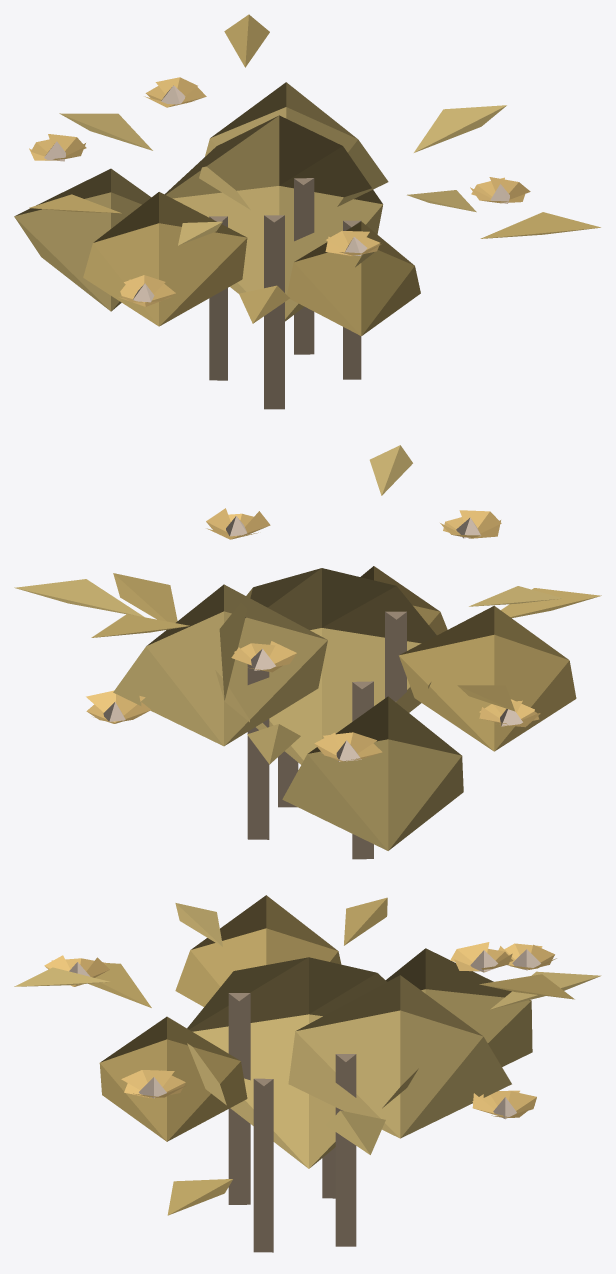
File: guan.lianqiao__autumn.glb
3 views of the same model, one above another, from view 1: azimuth 30°, elevation 25°; view 2: azimuth 150°, elevation 25°; view 3: azimuth 270°, elevation 25° (orthographic). The views are drawn at different scales.
Parts seen in each view (by area): view 1: guan.lianqiao__autumn; view 2: guan.lianqiao__autumn; view 3: guan.lianqiao__autumn.
Boxes of the visible parts, left/top/right/bottom form: guan.lianqiao__autumn: left=14, top=14, right=600, bottom=409; guan.lianqiao__autumn: left=14, top=445, right=601, bottom=859; guan.lianqiao__autumn: left=14, top=895, right=601, bottom=1252.
Bounding box in the file's own units: 3.08 × 1.6 × 3.03.
